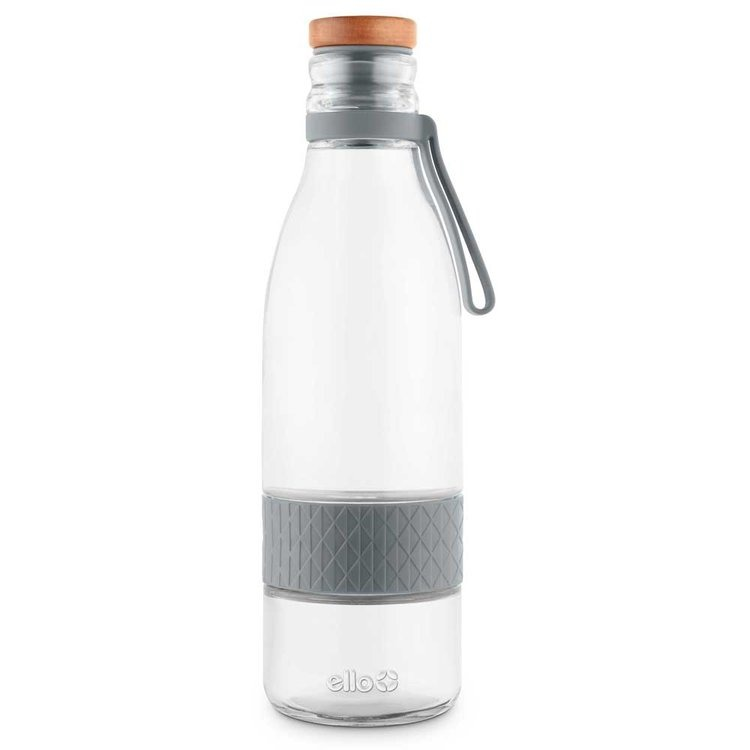container: (252, 10, 475, 724)
